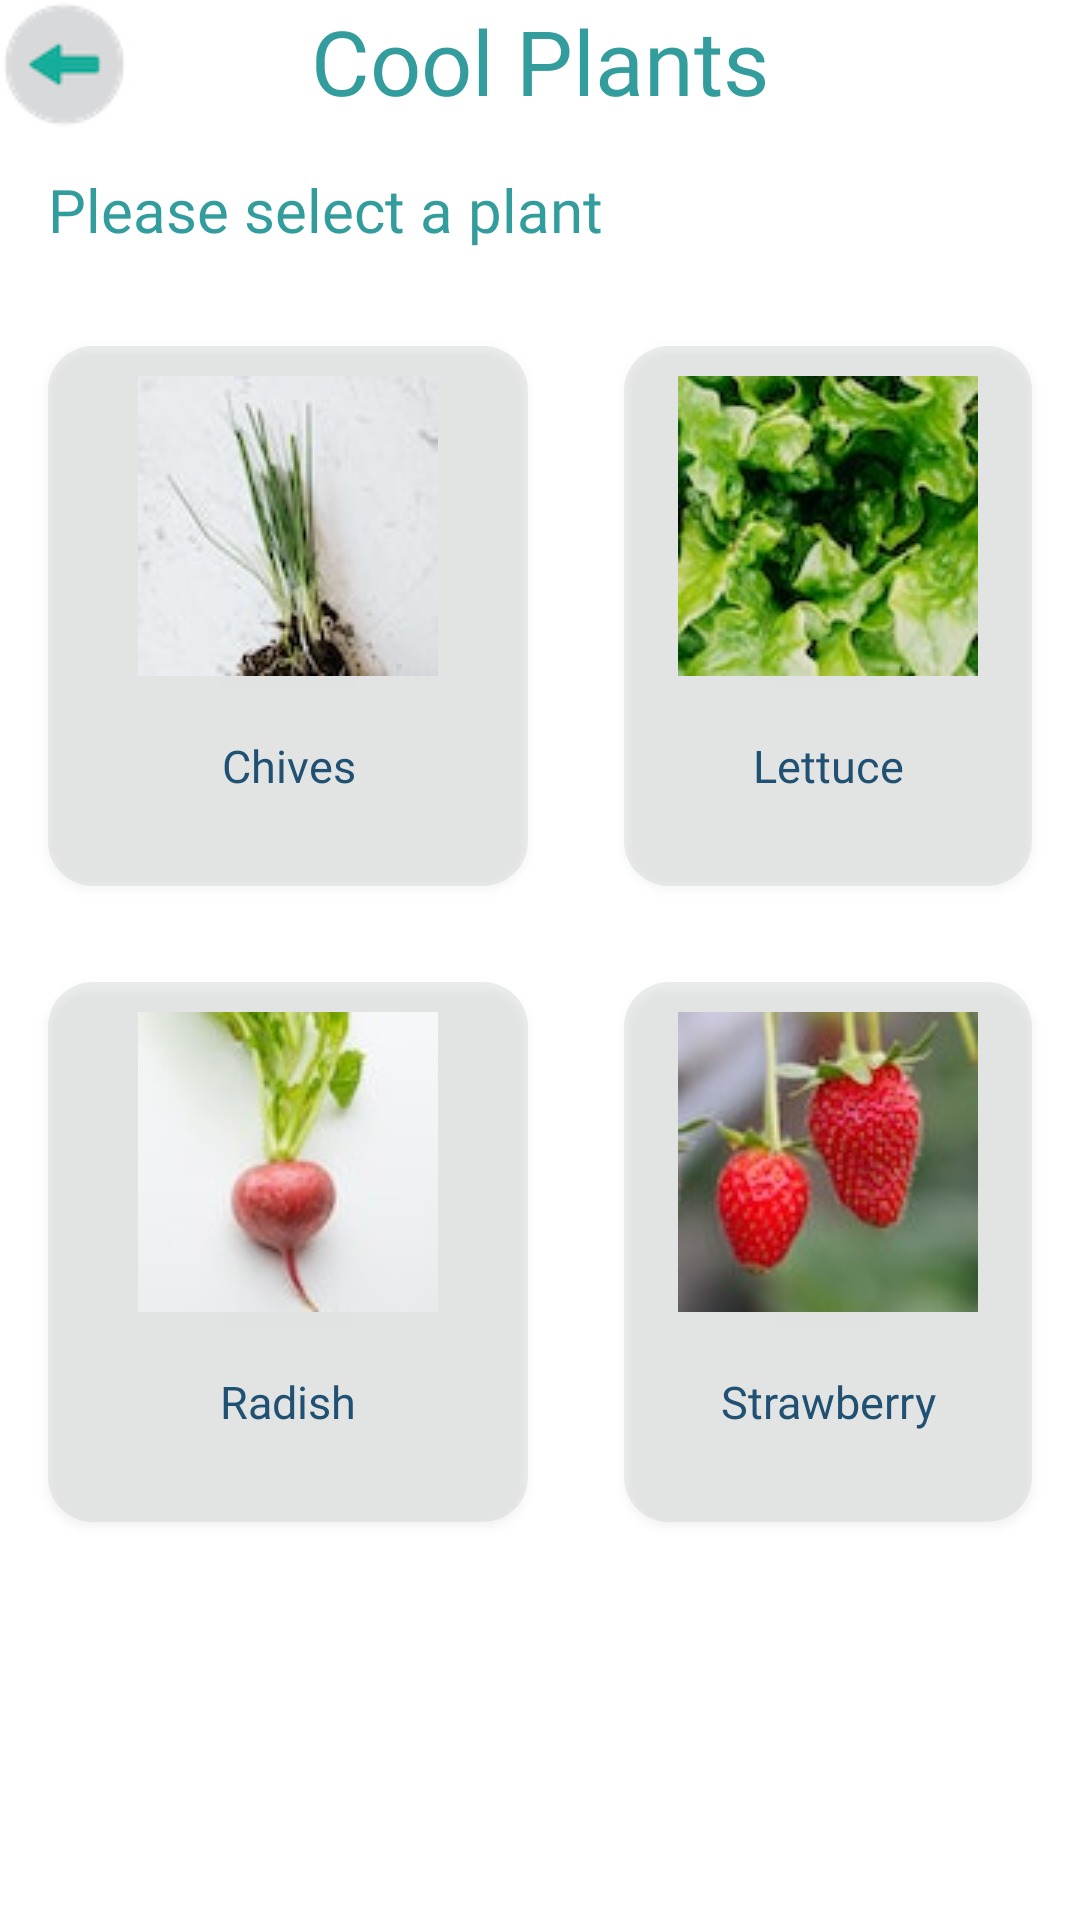

Named icons in this screenshot (1080 x 1920) and their bounding boxes, region(x1, y1, x2, y2):
back: region(6, 6, 123, 123)
